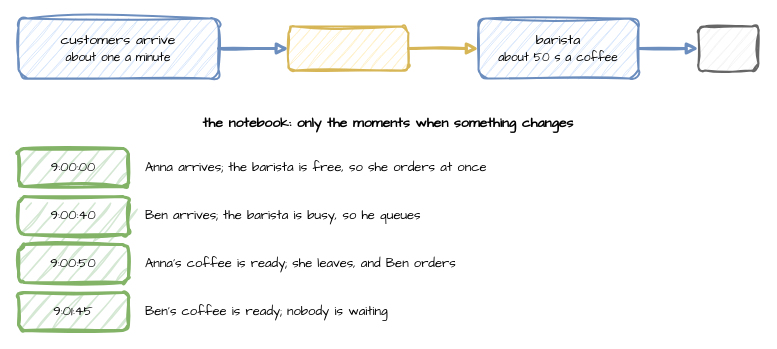
Some shapes in this 777 by 349 pixel diagram are drawn without their labels. Each missing label, with the box of its shape:
leave: (697, 25, 759, 71)
queue: (287, 25, 409, 71)
